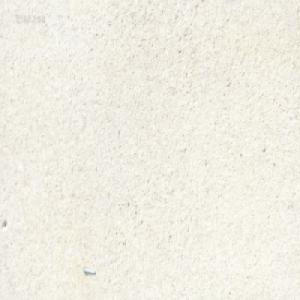Nail: (81, 264, 96, 274)
